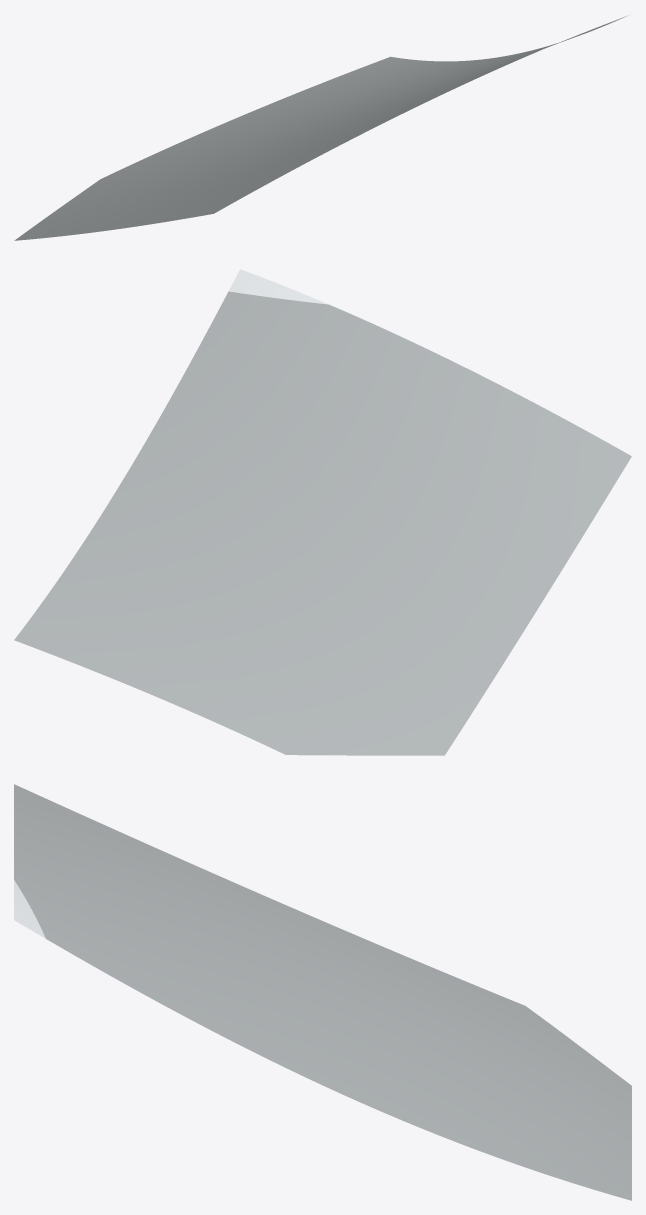
Rendered from alpine-7-4.glb.
3 renders of one model, top to bottom at view 1: azimuth 30°, elevation 25°; view 2: azimuth 150°, elevation 25°; view 3: azimuth 270°, elevation 25°, orthographic. The views are drawn at different scales.
Parts seen in each view (by area): view 1: alpine-7-4; view 2: alpine-7-4; view 3: alpine-7-4.
Boxes of the visible parts, bbox=[...] form: alpine-7-4: bbox=[14, 15, 628, 240]; alpine-7-4: bbox=[14, 269, 631, 755]; alpine-7-4: bbox=[14, 784, 631, 1200].
Bounding box in the file's own units: 256 × 159 × 256.
2 materials, 2 textured.
